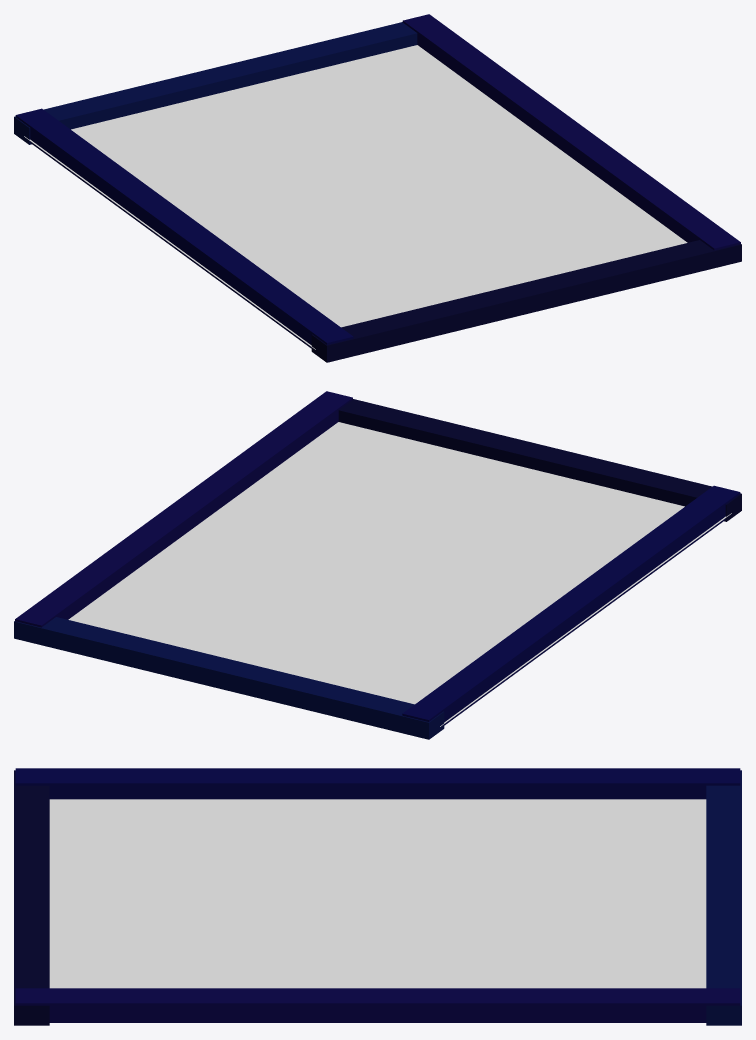
File: frame.1.fbx
3 renders of one model, top to bottom at view 1: azimuth 30°, elevation 25°; view 2: azimuth 150°, elevation 25°; view 3: azimuth 270°, elevation 25°, orthographic. The views are drawn at different scales.
Visible parts, largest first — view 1: 平面, 立方体.003, 立方体.001, 立方体, 立方体.002; view 2: 平面, 立方体.002, 立方体.001, 立方体, 立方体.003; view 3: 平面, 立方体, 立方体.001, 立方体.002, 立方体.003.
Part boxes in pixels (x1,y1,x2,y2): 平面: (24, 45, 687, 349); 立方体.003: (311, 240, 741, 362); 立方体.001: (15, 108, 353, 348); 立方体: (402, 14, 740, 250); 立方体.002: (14, 22, 417, 144); 平面: (68, 422, 731, 726); 立方体.002: (14, 617, 444, 739); 立方体.001: (402, 485, 740, 725); 立方体: (15, 391, 352, 627); 立方体.003: (338, 399, 741, 521); 平面: (49, 799, 706, 988); 立方体: (15, 988, 740, 1022); 立方体.001: (15, 768, 740, 799); 立方体.002: (706, 770, 741, 1025); 立方体.003: (14, 770, 49, 1025).
Size of the model in its own units: 231 by 10.1 by 301.
